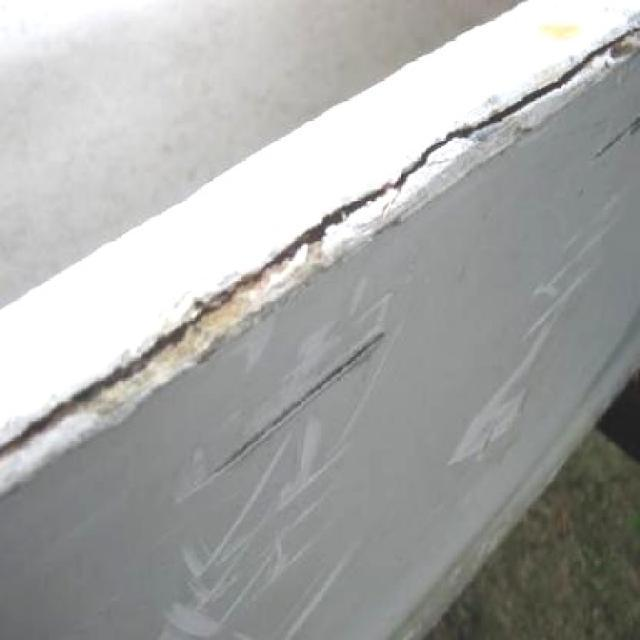crack: (3, 318, 189, 460), (189, 217, 340, 318), (343, 144, 454, 217), (452, 86, 555, 147), (556, 33, 640, 86)
